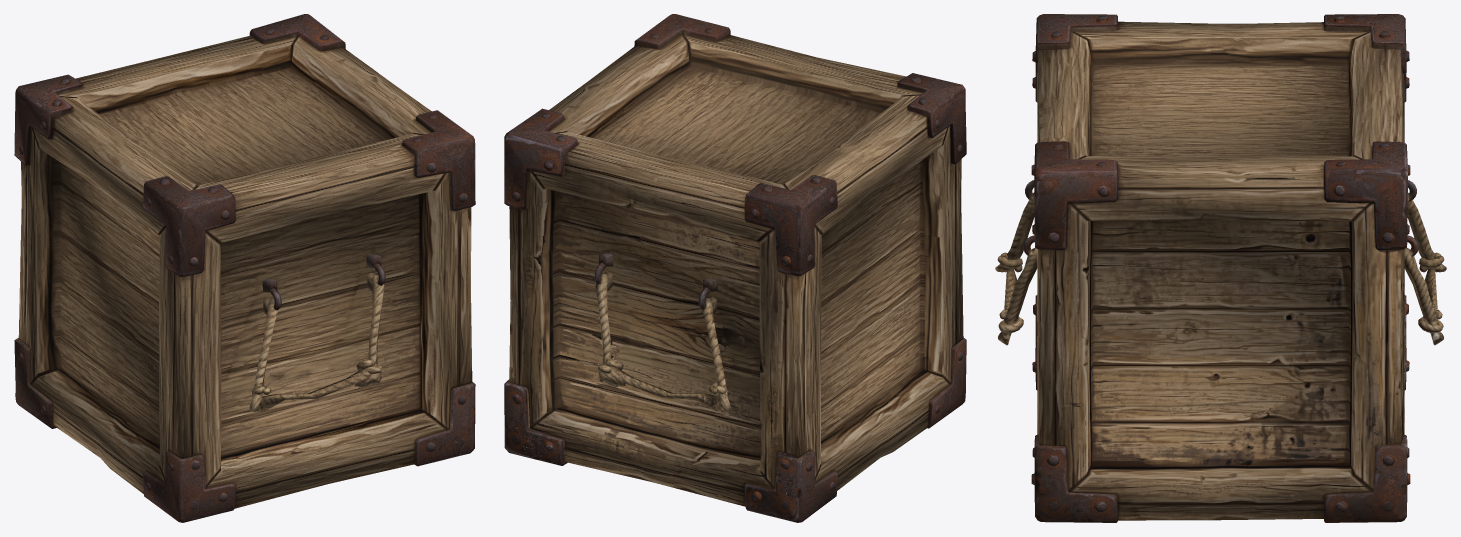
Rendered from SM_Env_SohoCargoCrate.fbx.
The picture shows the model from 3 angles, left to right: view 1: azimuth 30°, elevation 25°; view 2: azimuth 150°, elevation 25°; view 3: azimuth 270°, elevation 25°; orthographic projection. The views are drawn at different scales.
Parts seen in each view (by area): view 1: SM_Env_SohoCargoCrate; view 2: SM_Env_SohoCargoCrate; view 3: SM_Env_SohoCargoCrate.
Boxes of the visible parts, bbox=[...] form: SM_Env_SohoCargoCrate: bbox=[14, 14, 475, 522]; SM_Env_SohoCargoCrate: bbox=[504, 14, 966, 522]; SM_Env_SohoCargoCrate: bbox=[995, 14, 1446, 522].
Bounding box in the file's own units: 26.39 × 30.96 × 27.
1 material, 1 textured.
